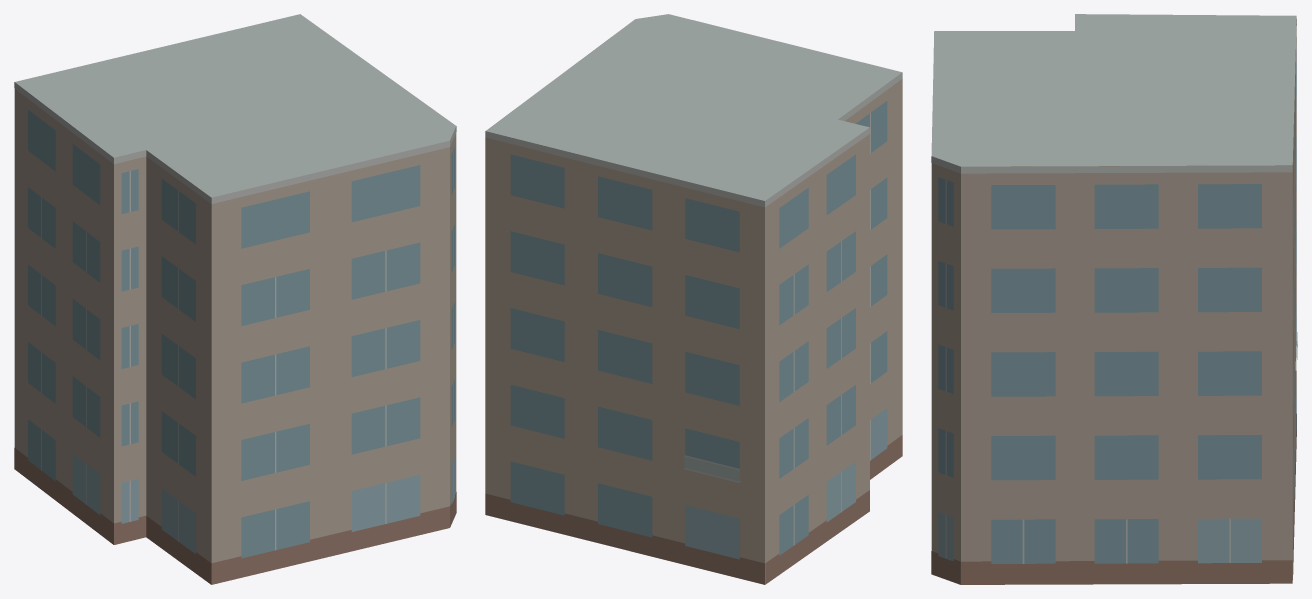
Rendered from survey-upis-32952090.glb.
3 views of the same model, side by side, from view 1: azimuth 30°, elevation 25°; view 2: azimuth 150°, elevation 25°; view 3: azimuth 270°, elevation 25° (orthographic). The views are drawn at different scales.
Parts seen in each view (by area): view 1: survey-upis-32952090.tmp; view 2: survey-upis-32952090.tmp; view 3: survey-upis-32952090.tmp.
Part boxes in pixels (left/top/right/bottom): survey-upis-32952090.tmp: left=14, top=14, right=456, bottom=584; survey-upis-32952090.tmp: left=485, top=14, right=902, bottom=584; survey-upis-32952090.tmp: left=931, top=14, right=1297, bottom=584.
Size of the model in its own units: 11.51 by 14.7 by 11.67.
